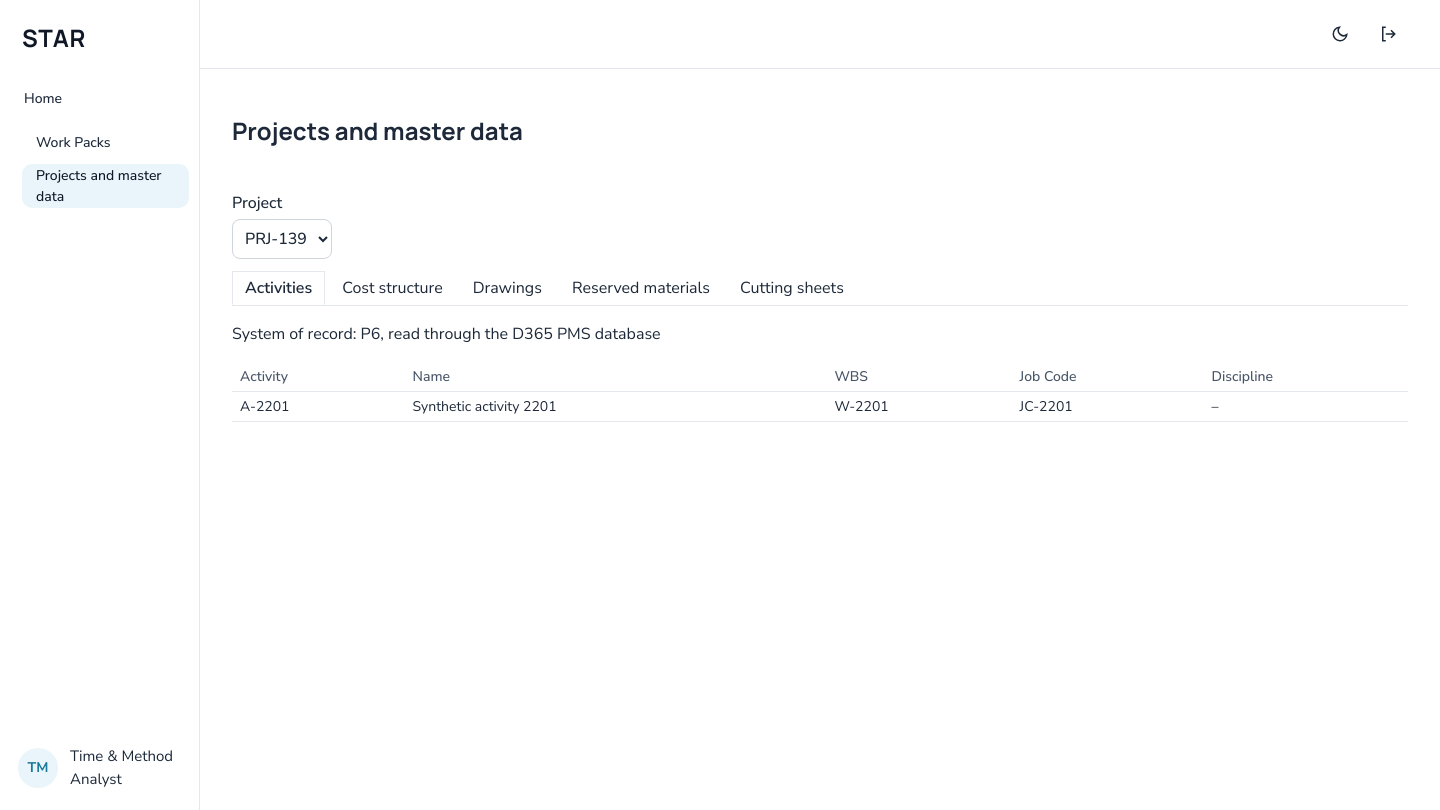
Test: ProjectsPage › BPA77_userWithSeveralProjectsSwitchesProject
This screenshot has width=1440, height=810.
Select "PRJ-142" in the dropdown labelled "Project" at (282, 239), box [232, 219, 332, 259]
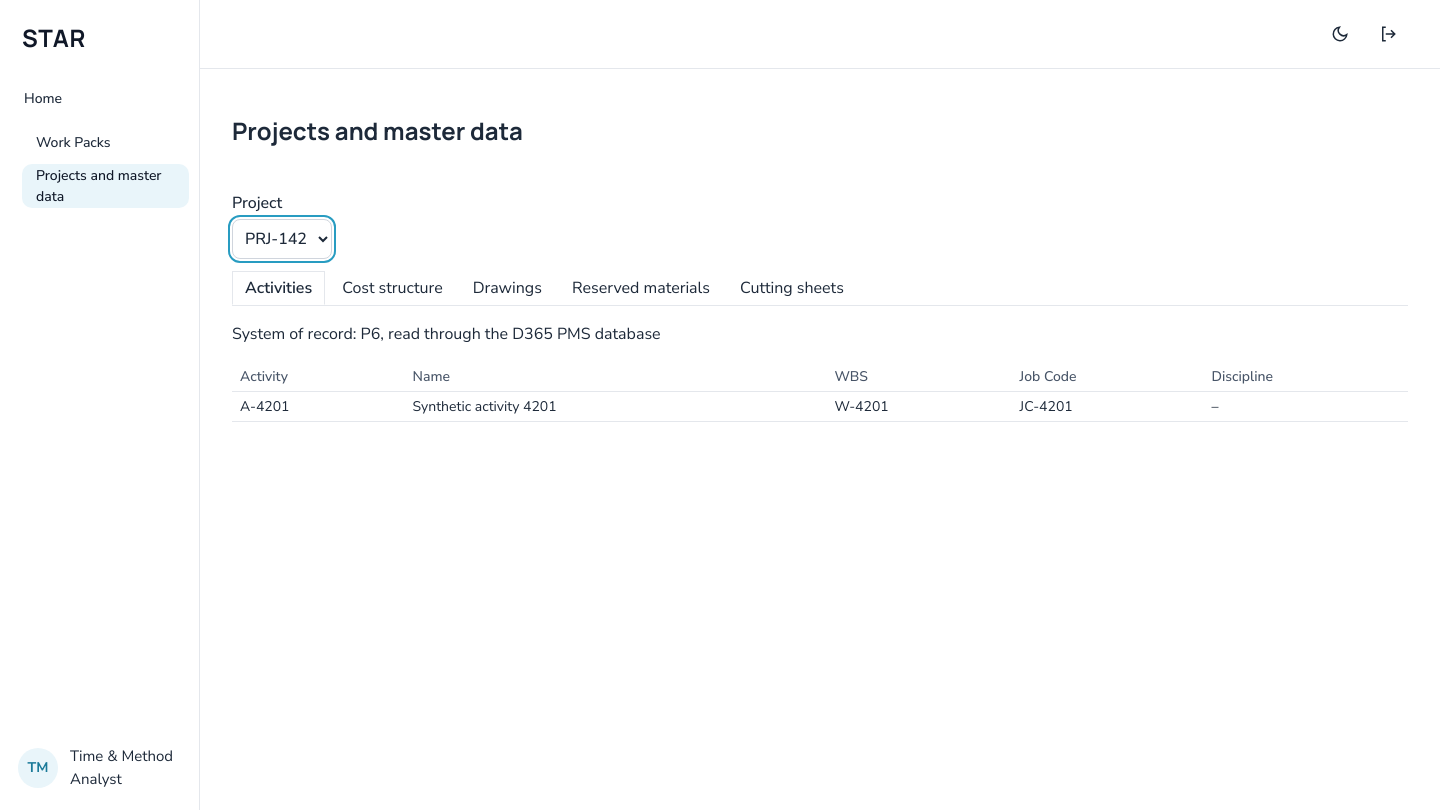
Click the tab "Activities".
click(279, 288)  # box [232, 271, 325, 305]
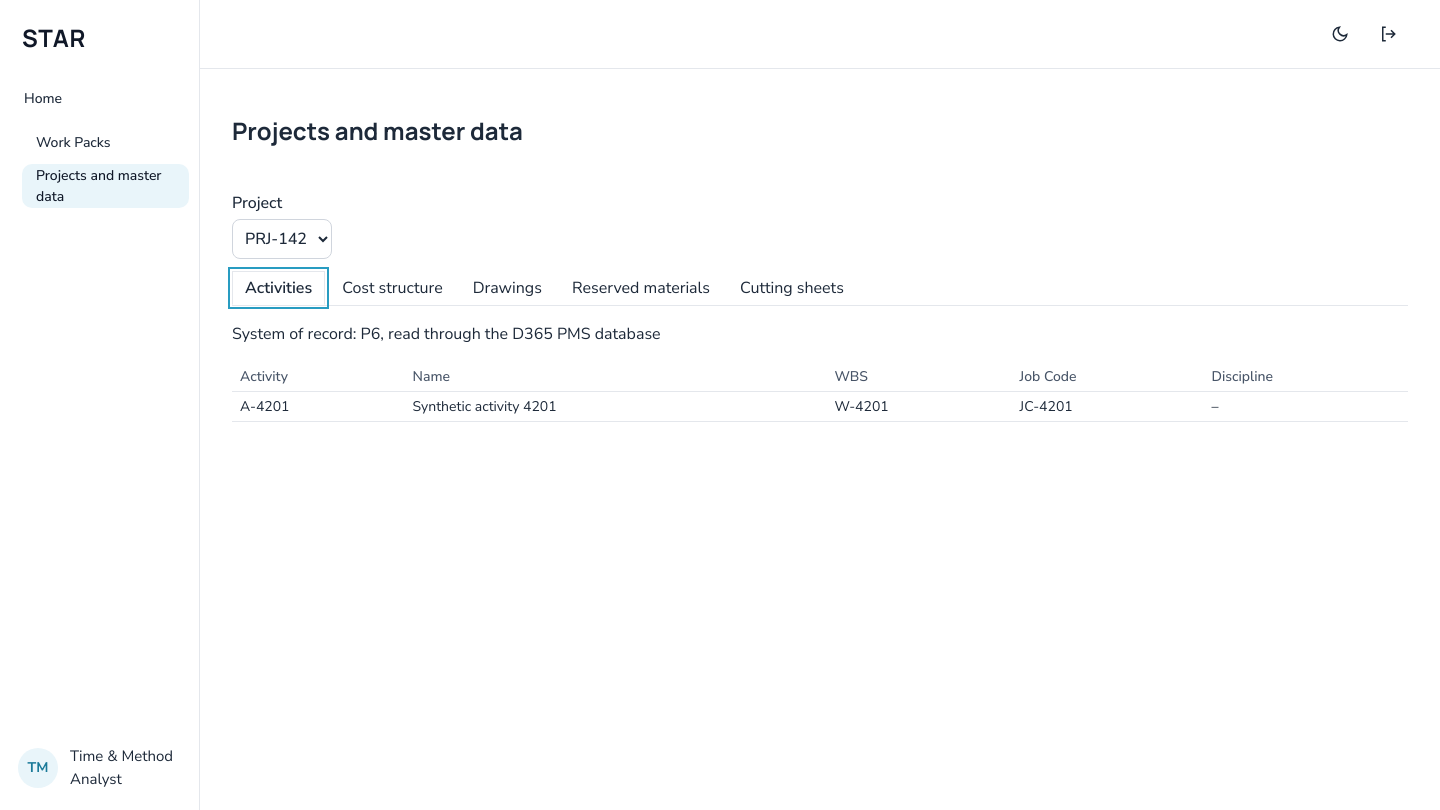
Expected: the panel shows "A-4201", [240, 397, 290, 416]
Expected: the panel does not show "A-2201", [232, 322, 1408, 422]
Click the tab "Cost structure".
click(392, 288)  # box [329, 271, 456, 305]
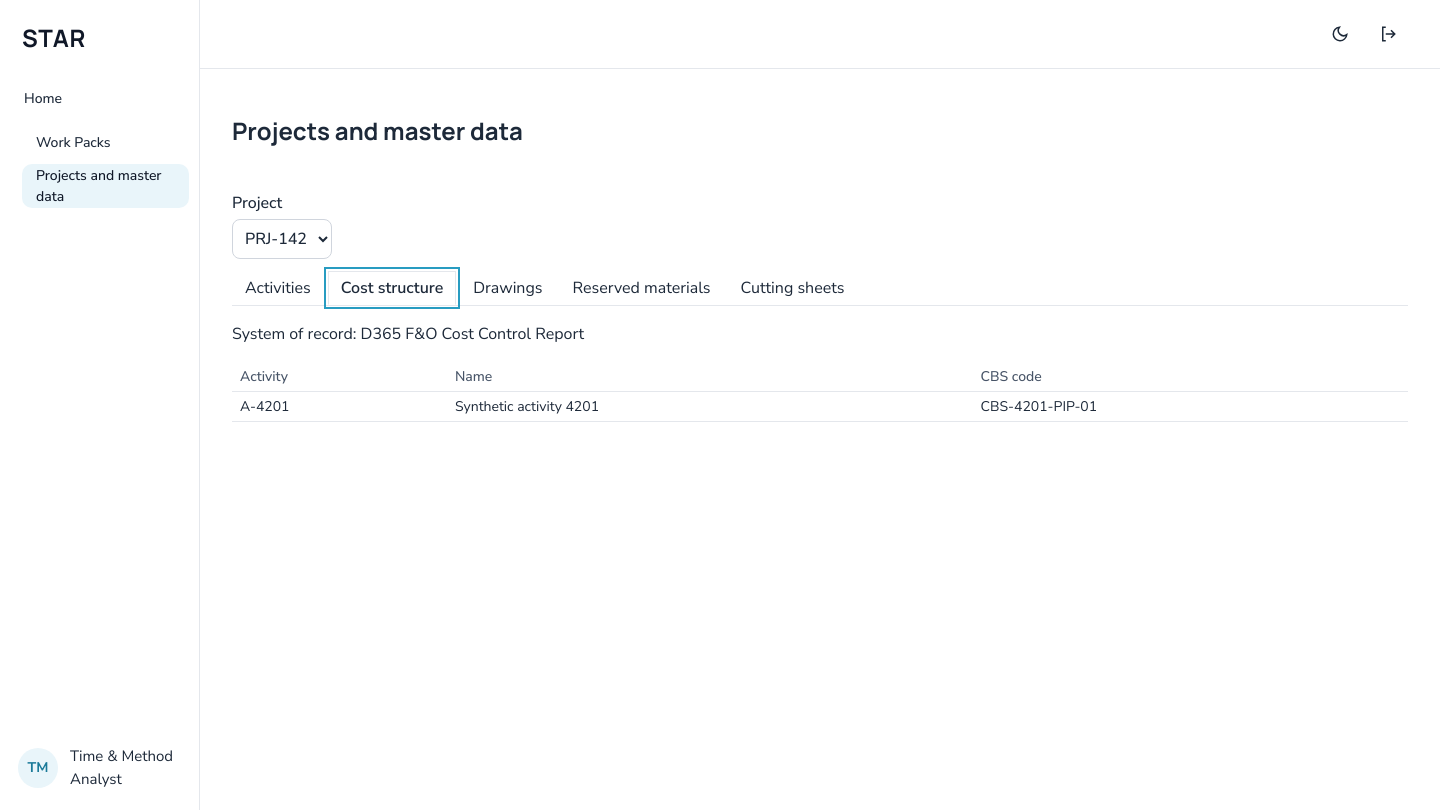
Expected: the panel does not show "CBS-2201-PIP-01", [232, 322, 1408, 422]
Expected: the panel shows "CBS-4201-PIP-01", [980, 397, 1097, 416]
Expected: the panel shows "System of record: D365 F&O Cost Control Report", [232, 322, 1408, 422]
Click the tab "Drawings".
click(508, 288)  # box [460, 271, 556, 305]
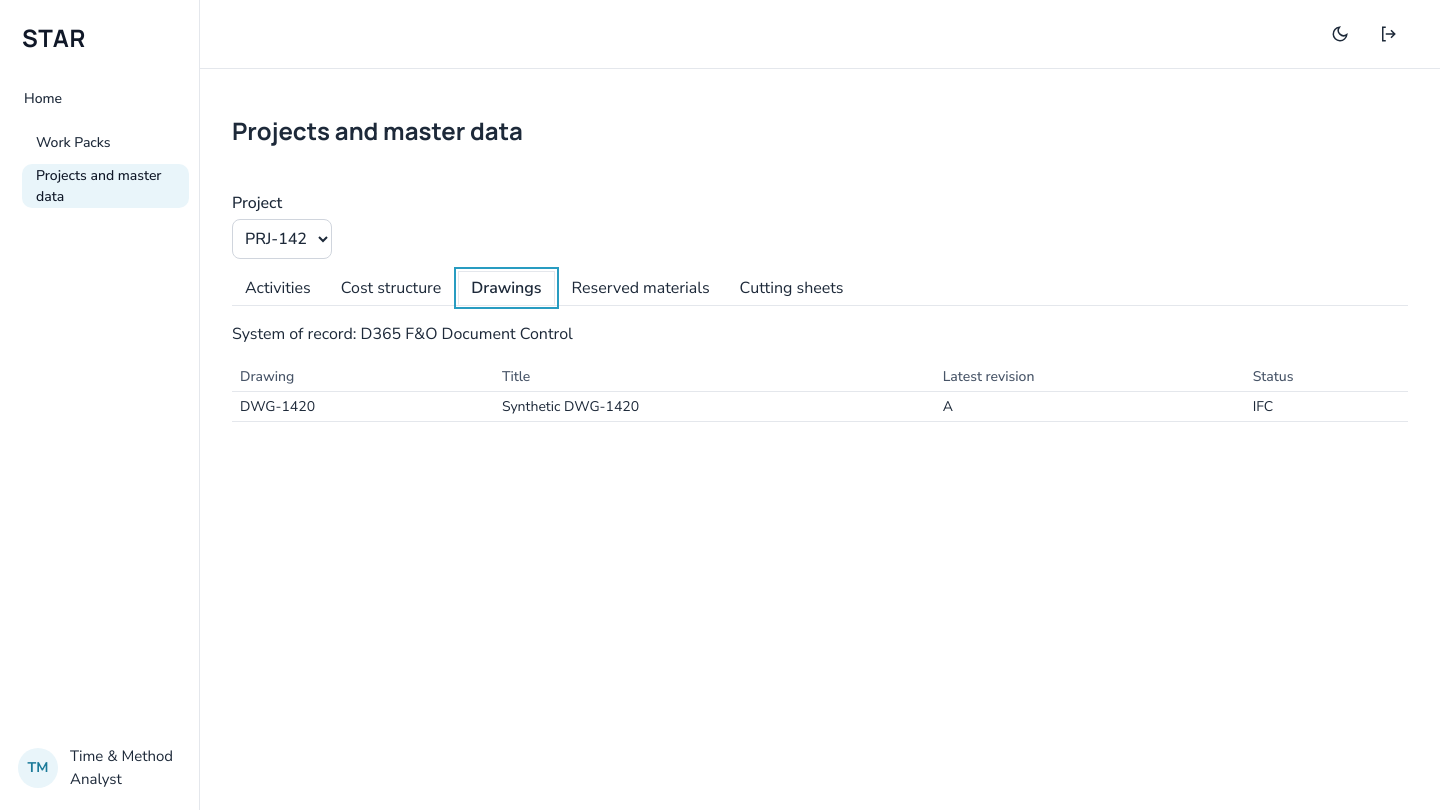
Expected: the panel does not show "DWG-118", [232, 322, 1408, 422]
Expected: the panel shows "DWG-1420", [240, 397, 315, 416]
Click the tab "Reserved materials".
click(641, 288)  # box [559, 271, 723, 305]
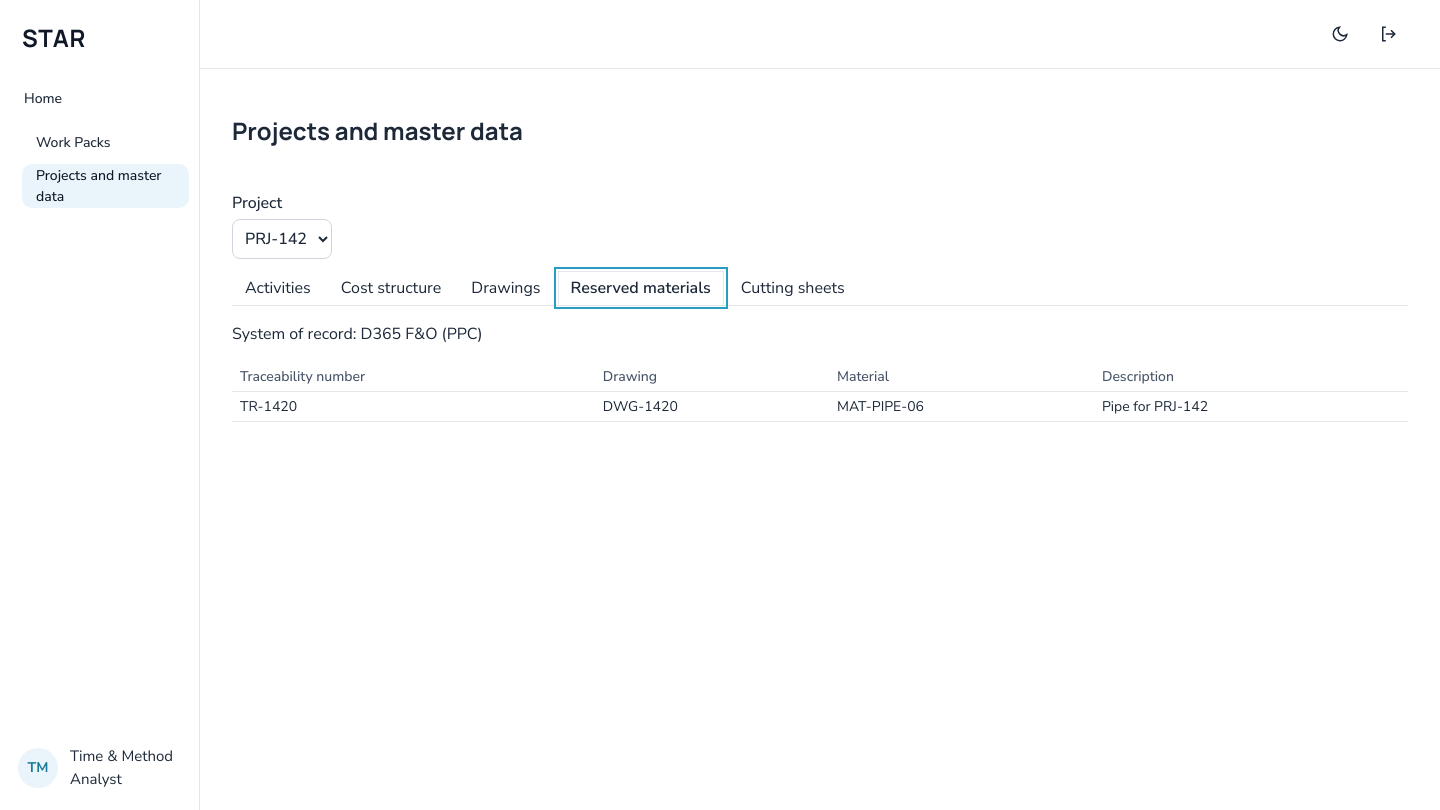
Expected: the panel does not show "TR-5531", [232, 322, 1408, 422]
Expected: the panel shows "TR-1420", [240, 397, 297, 416]
Click the tab "Cutting sheets".
click(793, 288)  # box [728, 271, 858, 305]
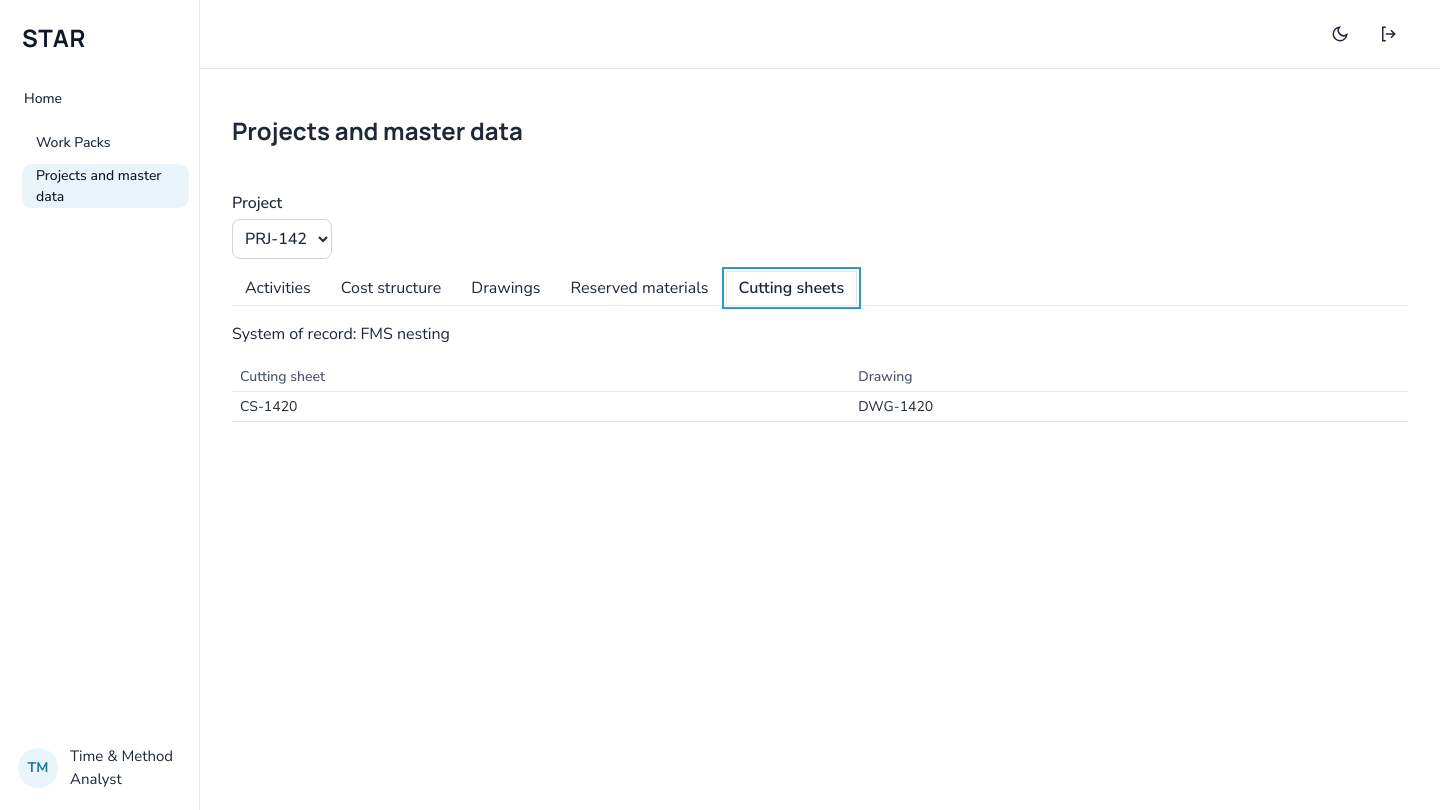
Expected: the panel does not show "CS-3310", [232, 322, 1408, 422]
Expected: the panel shows "CS-1420", [240, 397, 297, 416]
